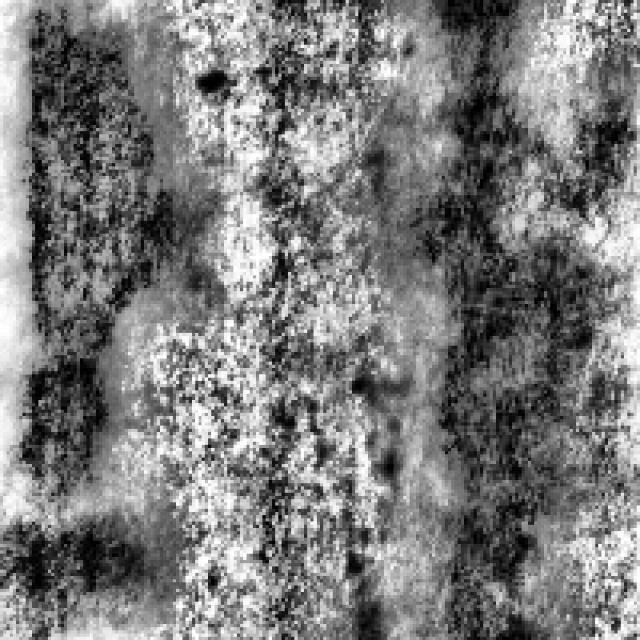Scratches: (374, 0, 618, 637), (7, 0, 185, 499), (0, 512, 160, 637)
